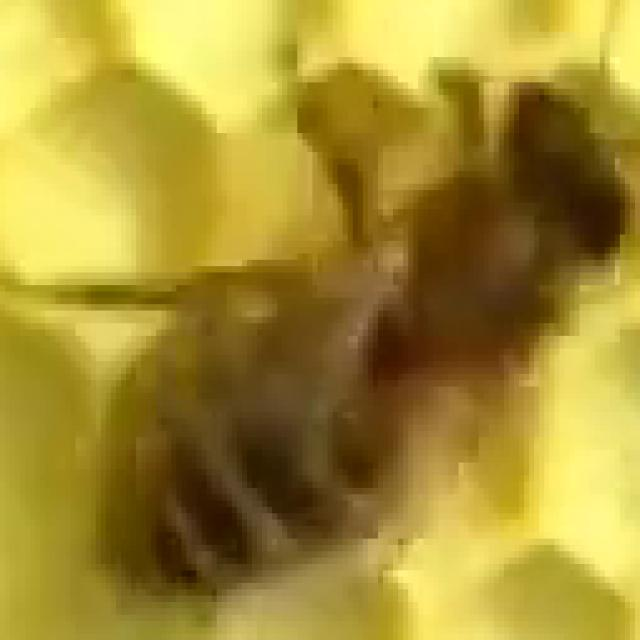honeybee: (69, 99, 612, 535)
